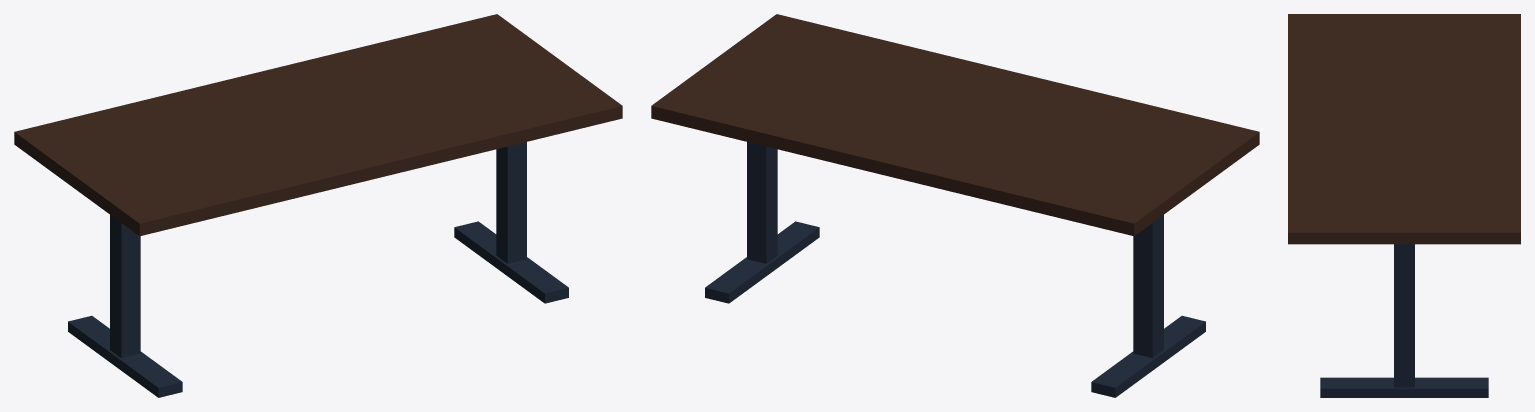
File: smart-desk.glb
3 views of the same model, side by side, from view 1: azimuth 30°, elevation 25°; view 2: azimuth 150°, elevation 25°; view 3: azimuth 270°, elevation 25° (orthographic). The views are drawn at different scales.
Parts seen in each view (by area): view 1: SmartStandingDesk; view 2: SmartStandingDesk; view 3: SmartStandingDesk.
Part boxes in pixels (x1,y1,x2,y2): SmartStandingDesk: (14, 14, 622, 397); SmartStandingDesk: (651, 14, 1259, 397); SmartStandingDesk: (1288, 14, 1520, 397).
Size of the model in its own units: 2 by 0.775 by 0.9.
